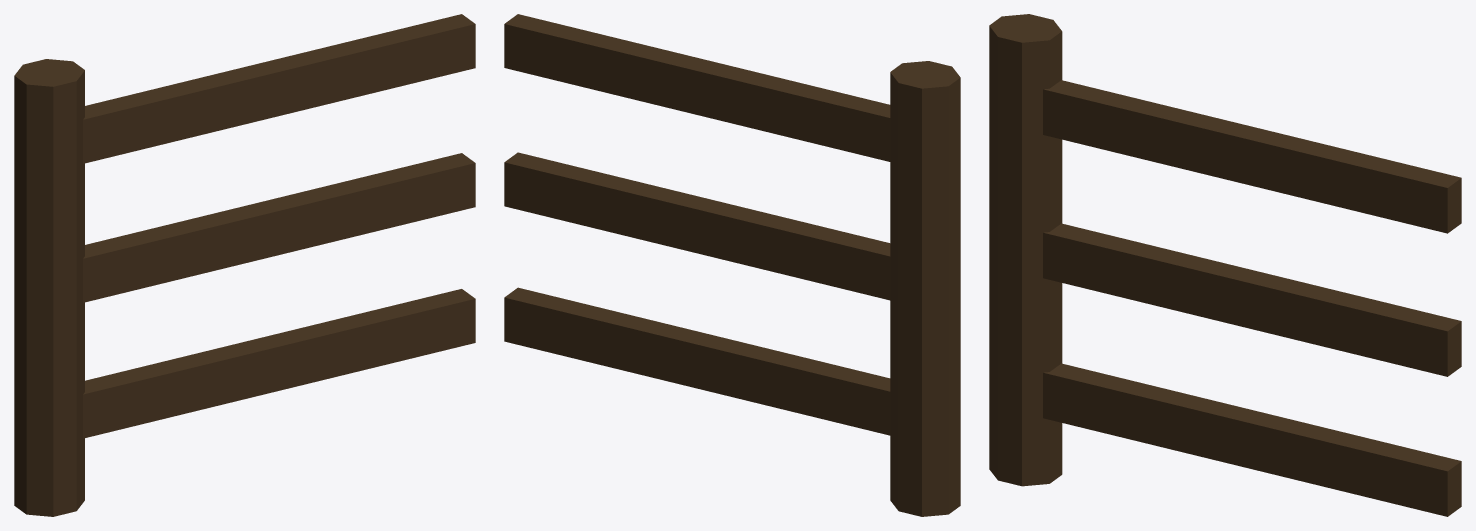
File: trivallat.fbx
3 views of the same model, side by side, from view 1: azimuth 30°, elevation 25°; view 2: azimuth 150°, elevation 25°; view 3: azimuth 330°, elevation 25° (orthographic). The views are drawn at different scales.
Parts seen in each view (by area): view 1: trivallat, palac; view 2: trivallat, palac; view 3: trivallat, palac.
Boxes of the visible parts, <box> form: trivallat: <box>83,14,475,438</box>; palac: <box>14,59,84,516</box>; trivallat: <box>504,14,890,435</box>; palac: <box>890,61,960,516</box>; trivallat: <box>1043,80,1461,516</box>; palac: <box>989,14,1062,486</box>.
Size of the model in its own units: 535 by 492 by 62.87.
